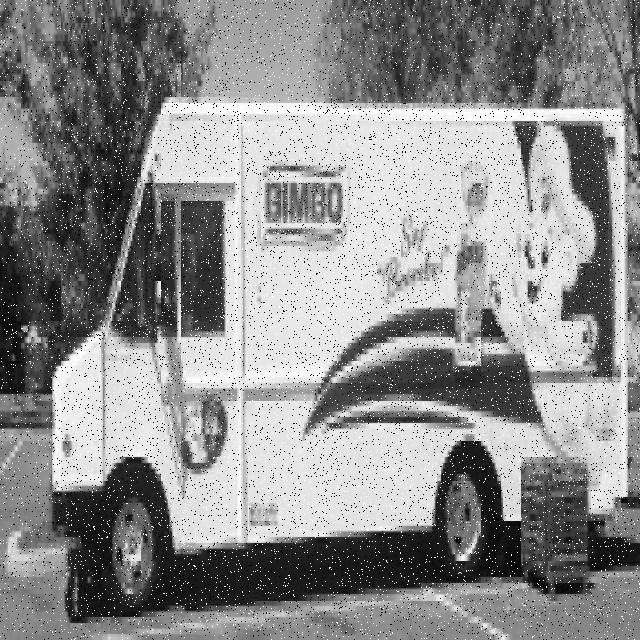Box Truck: (52, 100, 630, 617)
